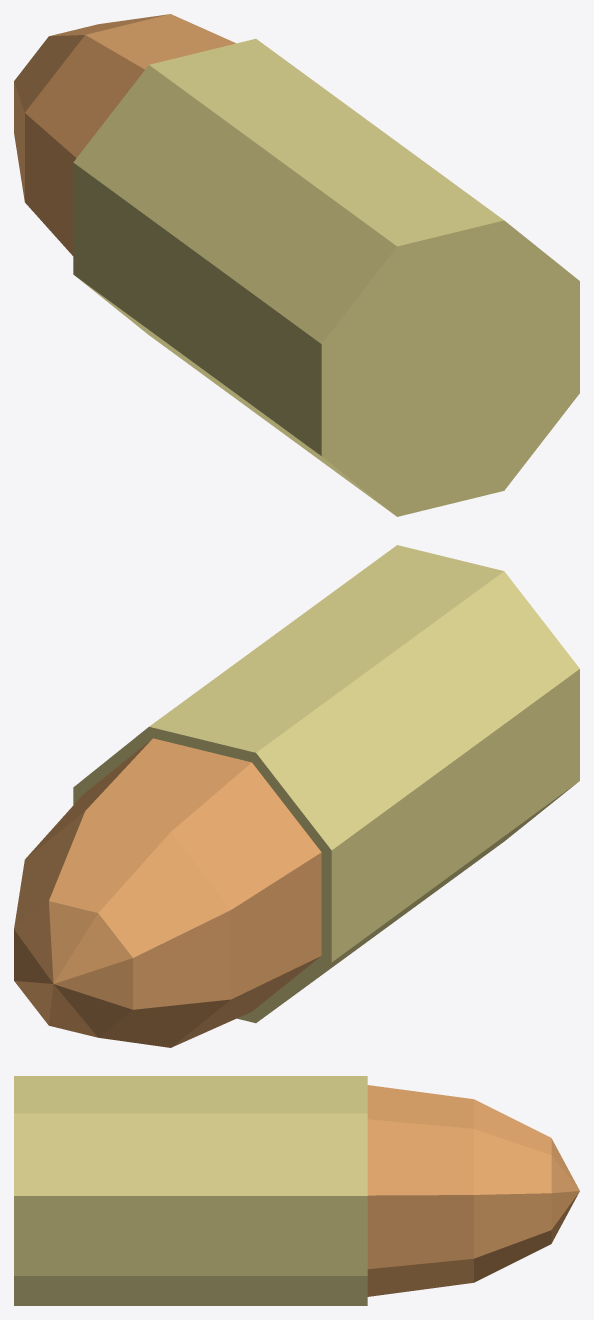
The model's file is ce_ammo_revolver_hp_a.obj.
3 views of the same model, one above another, from view 1: azimuth 30°, elevation 25°; view 2: azimuth 150°, elevation 25°; view 3: azimuth 270°, elevation 25° (orthographic). The views are drawn at different scales.
Visible parts, largest first — view 1: ce_ammo_revolver_hp_a_0, ce_ammo_revolver_hp_a_1, ce_ammo_revolver_hp_a_2; view 2: ce_ammo_revolver_hp_a_0, ce_ammo_revolver_hp_a_1, ce_ammo_revolver_hp_a_2, ce_ammo_revolver_hp_a_3; view 3: ce_ammo_revolver_hp_a_0, ce_ammo_revolver_hp_a_1, ce_ammo_revolver_hp_a_2, ce_ammo_revolver_hp_a_3.
Part boxes in pixels (x1,y1,x2,y2): ce_ammo_revolver_hp_a_0: (73, 38, 579, 516); ce_ammo_revolver_hp_a_1: (25, 14, 235, 255); ce_ammo_revolver_hp_a_2: (14, 14, 168, 201); ce_ammo_revolver_hp_a_0: (73, 545, 579, 1023); ce_ammo_revolver_hp_a_1: (26, 738, 321, 1047); ce_ammo_revolver_hp_a_2: (14, 811, 231, 1047); ce_ammo_revolver_hp_a_3: (14, 901, 132, 1037); ce_ammo_revolver_hp_a_0: (14, 1076, 367, 1305); ce_ammo_revolver_hp_a_1: (367, 1085, 473, 1296); ce_ammo_revolver_hp_a_2: (474, 1099, 551, 1282); ce_ammo_revolver_hp_a_3: (551, 1139, 579, 1242).
Bounding box in the file's own units: 0.1202 × 0.1202 × 0.32.
